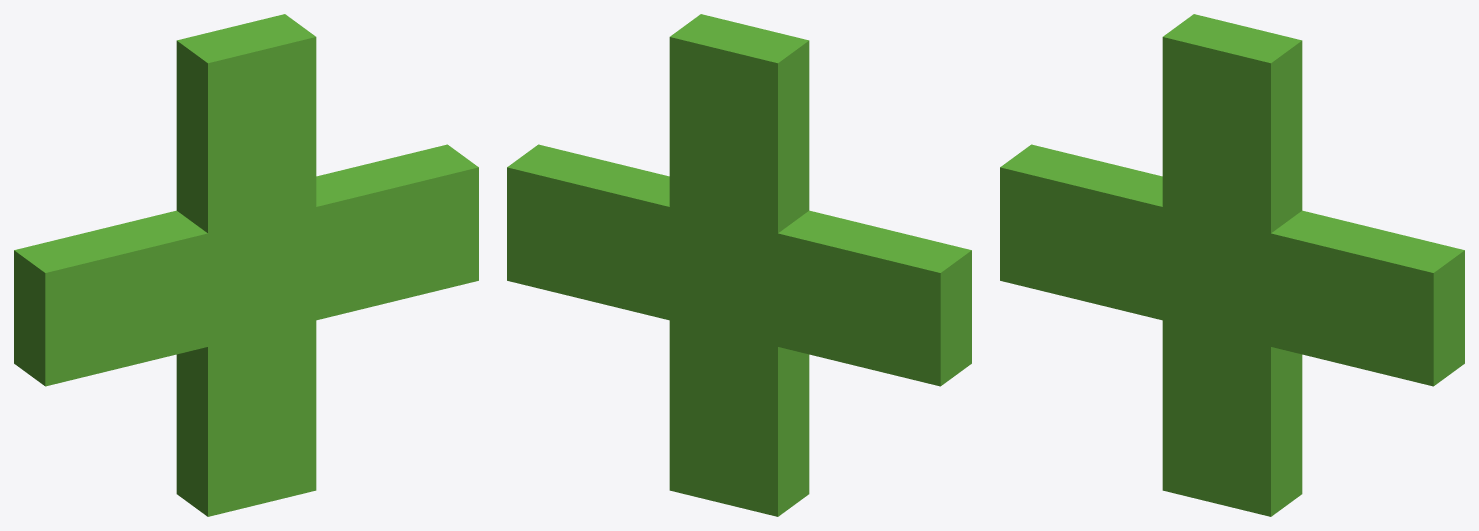
Rendered from Icon_AddBlock.glb.
3 renders of one model, left to right at view 1: azimuth 30°, elevation 25°; view 2: azimuth 150°, elevation 25°; view 3: azimuth 330°, elevation 25°, orthographic.
Parts seen in each view (by area): view 1: Plus Icon; view 2: Plus Icon; view 3: Plus Icon.
Boxes of the visible parts, bbox=[...] form: Plus Icon: bbox=[14, 14, 478, 516]; Plus Icon: bbox=[507, 14, 971, 516]; Plus Icon: bbox=[1000, 14, 1464, 516].
Bounding box in the file's own units: 1.6 × 1.6 × 0.2.
